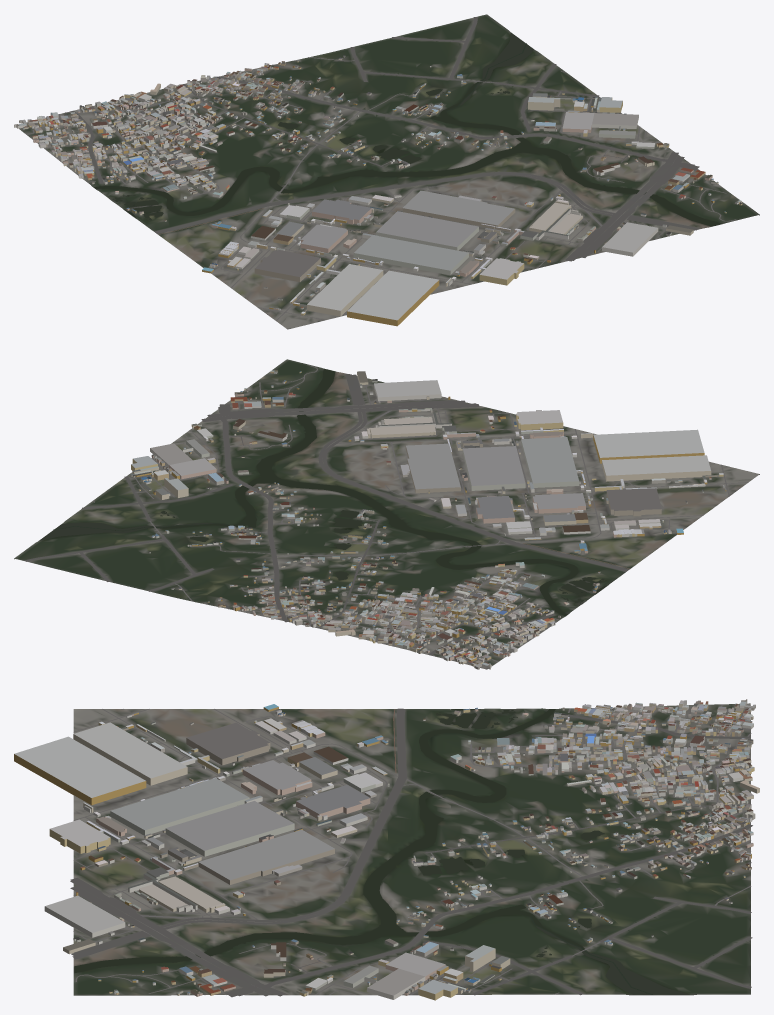
3 views of the same model, one above another, from view 1: azimuth 30°, elevation 25°; view 2: azimuth 150°, elevation 25°; view 3: azimuth 270°, elevation 25° (orthographic). The views are drawn at different scales.
Visible parts, largest first — view 1: ground, buildings, roads, water; view 2: ground, buildings, roads, water; view 3: ground, buildings, roads, water.
Boxes of the visible parts, left/top/right/bottom form: ground: left=19, top=14, right=759, bottom=329; buildings: left=14, top=55, right=742, bottom=326; roads: left=26, top=17, right=735, bottom=320; water: left=94, top=33, right=721, bottom=226; ground: left=14, top=359, right=759, bottom=669; buildings: left=130, top=369, right=726, bottom=669; roads: left=24, top=365, right=748, bottom=661; water: left=39, top=368, right=606, bottom=615; ground: left=73, top=703, right=750, bottom=995; buildings: left=14, top=699, right=759, bottom=1000; roads: left=70, top=704, right=752, bottom=997; water: left=74, top=709, right=689, bottom=994.
Size of the model in its own units: 1440 by 28.21 by 1543.
